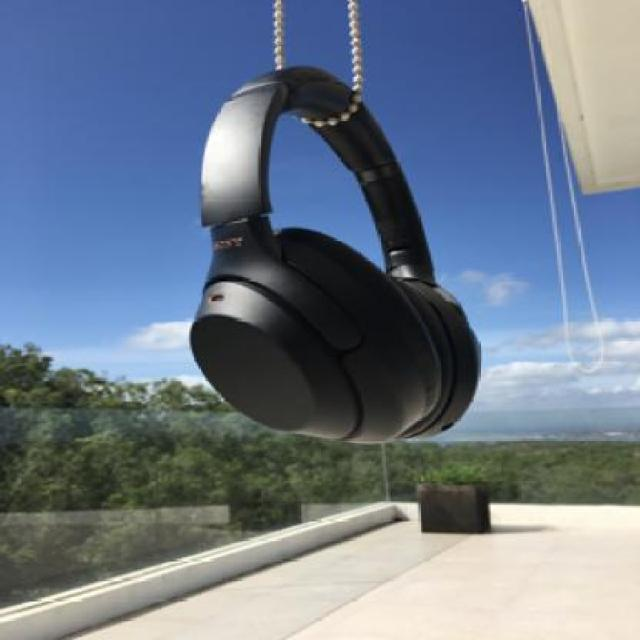earphone: (190, 32, 533, 488)
